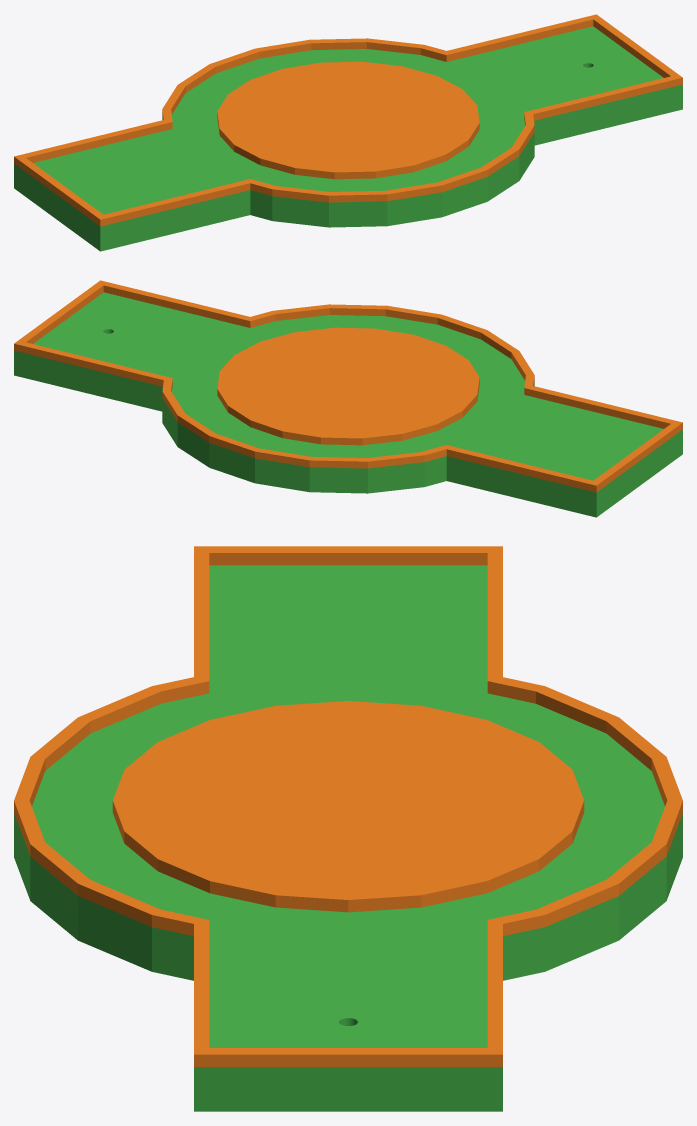
The model's file is tinker.obj.
3 views of the same model, one above another, from view 1: azimuth 30°, elevation 25°; view 2: azimuth 150°, elevation 25°; view 3: azimuth 270°, elevation 25° (orthographic). The views are drawn at different scales.
Visible parts, largest first — view 1: group_0_4634441, group_0_16089887; view 2: group_0_4634441, group_0_16089887; view 3: group_0_4634441, group_0_16089887.
Boxes of the visible parts, x1,y1,x2,y2 form: group_0_4634441: [14, 26, 682, 251]; group_0_16089887: [14, 14, 682, 226]; group_0_4634441: [14, 292, 682, 517]; group_0_16089887: [14, 280, 682, 492]; group_0_4634441: [14, 565, 682, 1111]; group_0_16089887: [14, 546, 682, 1066].
Bounding box in the file's own units: 158 × 8.26 × 88.
